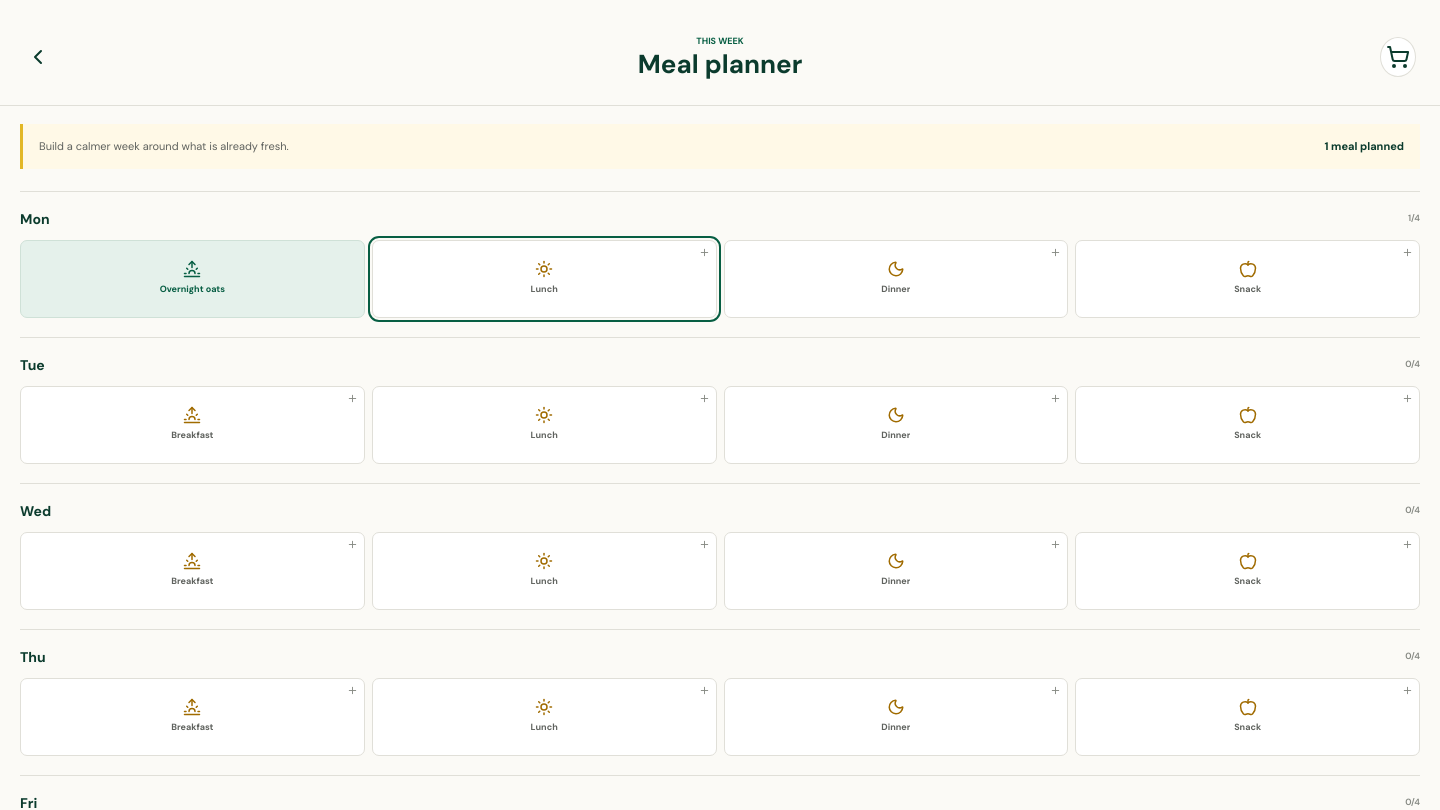
Test: MealPlanner › opens the recipe picker and moves focus when an empty slot is activated
Expected: the heading "Meal planner" is shown, [638,47,802,81]
Click the button with aria-label "Add lunch for Mon". click: click(544, 278)
box: [372,240,717,318]
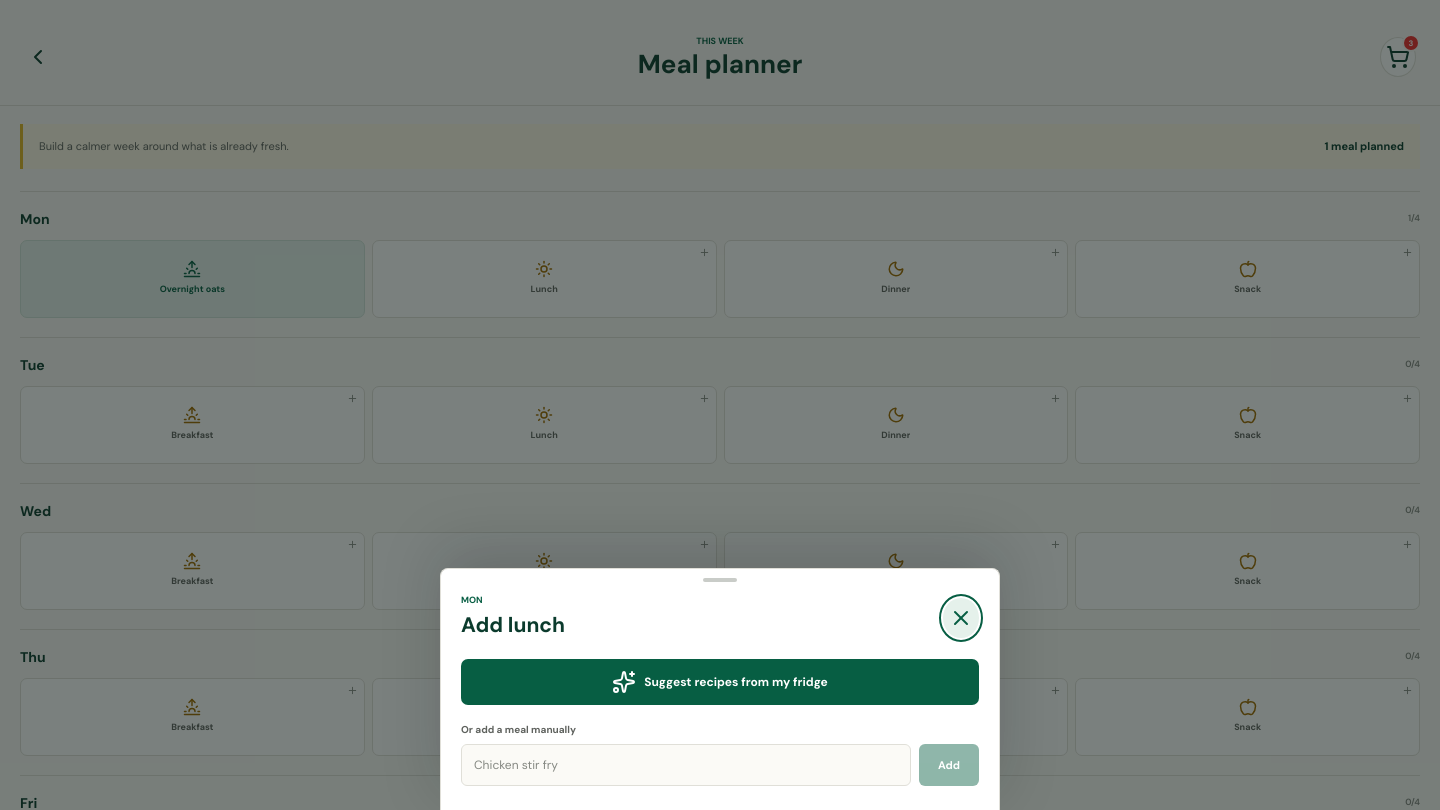
Expected: the dialog "Add lunch" is shown, [440,568,1000,809]
